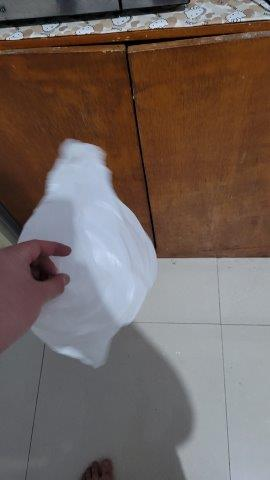plastik: (15, 139, 159, 368)
